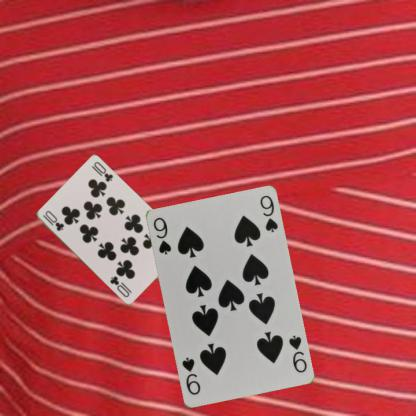10c: (40, 208, 65, 232)
9s: (285, 332, 308, 374), (150, 214, 172, 256)
